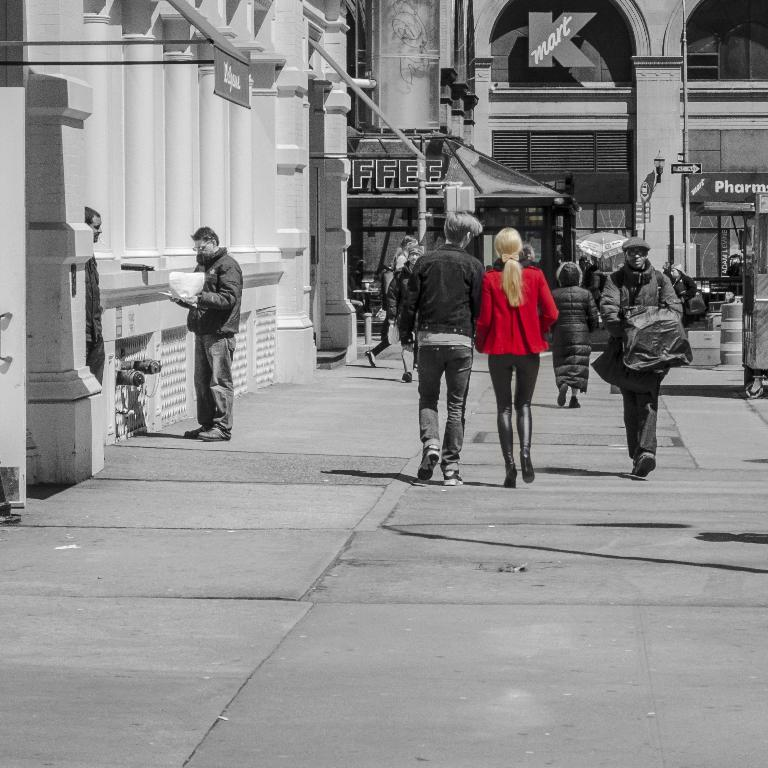Footwear: (422, 448, 438, 484), (518, 451, 536, 482), (178, 416, 207, 435), (442, 465, 468, 486), (640, 454, 660, 480), (504, 455, 518, 489), (194, 429, 227, 443), (559, 391, 566, 413), (566, 397, 583, 405)
